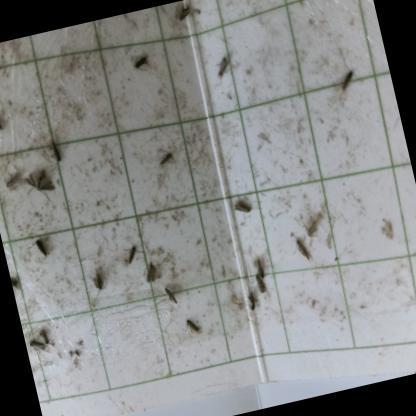prays_oleae: (20, 161, 58, 205), (84, 260, 118, 302), (219, 190, 260, 223), (31, 217, 57, 269), (332, 65, 368, 100), (206, 49, 241, 83), (151, 135, 180, 173), (40, 132, 70, 168), (284, 229, 312, 266), (160, 278, 186, 314), (1, 163, 27, 198), (140, 252, 166, 286), (252, 251, 276, 285), (126, 46, 152, 76), (24, 333, 48, 364), (184, 314, 209, 342), (118, 241, 142, 270), (171, 0, 197, 26), (38, 318, 55, 348), (252, 272, 270, 300), (8, 262, 24, 290), (246, 289, 260, 317)
